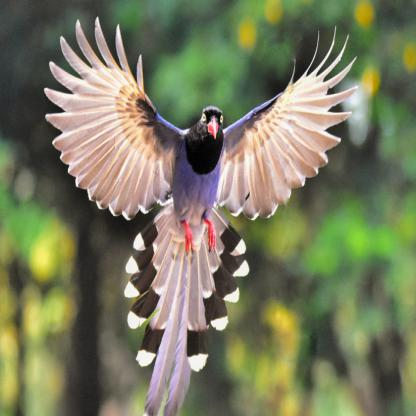bird: (52, 28, 371, 374)
